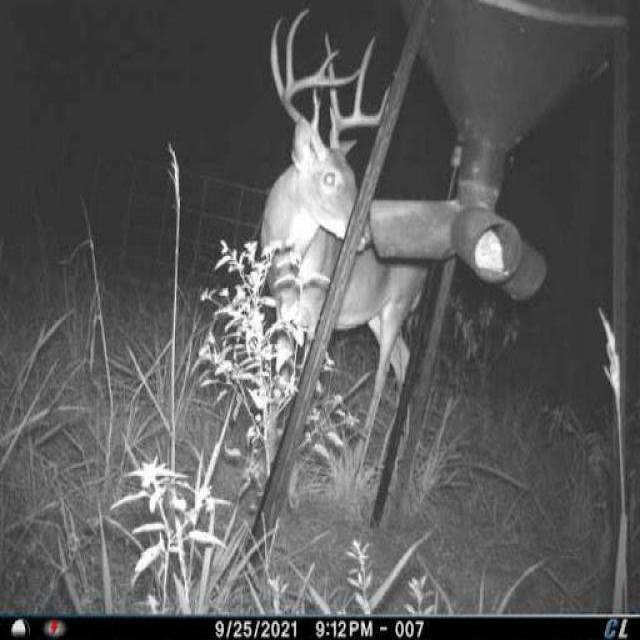deer: (253, 4, 432, 537)
